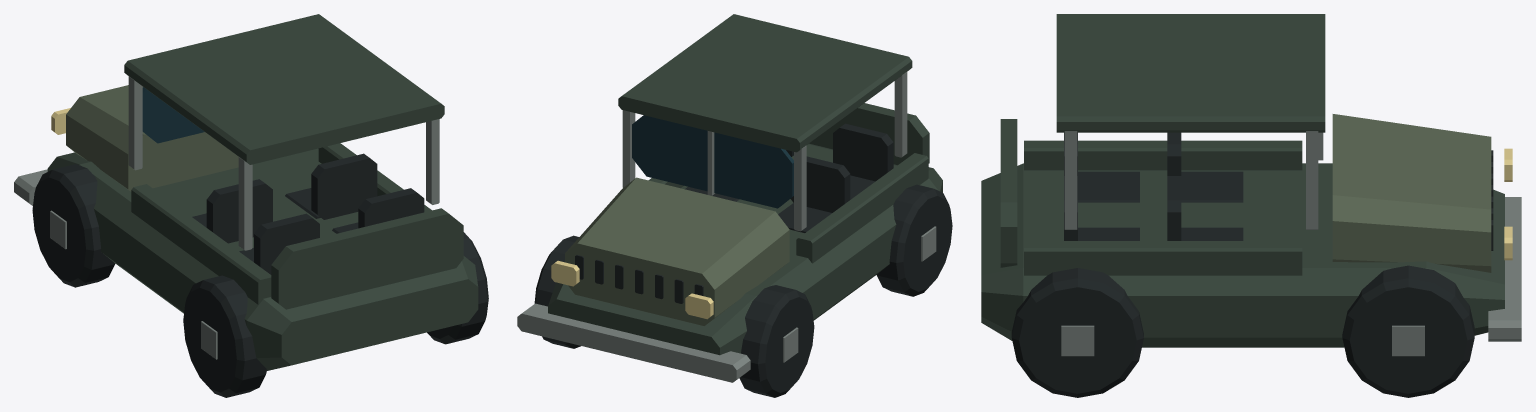
File: vehicle-0-7HS-etH-.glb
3 renders of one model, left to right at view 1: azimuth 30°, elevation 25°; view 2: azimuth 150°, elevation 25°; view 3: azimuth 270°, elevation 25°, orthographic. The views are drawn at different scales.
Visible parts, largest first — view 1: salient_vehicle_body_0; view 2: salient_vehicle_body_0; view 3: salient_vehicle_body_0.
Boxes of the visible parts, bbox=[...] form: salient_vehicle_body_0: bbox=[14, 14, 488, 397]; salient_vehicle_body_0: bbox=[517, 14, 952, 397]; salient_vehicle_body_0: bbox=[981, 14, 1521, 397].
Bounding box in the file's own units: 2.35 × 2.14 × 3.92.
